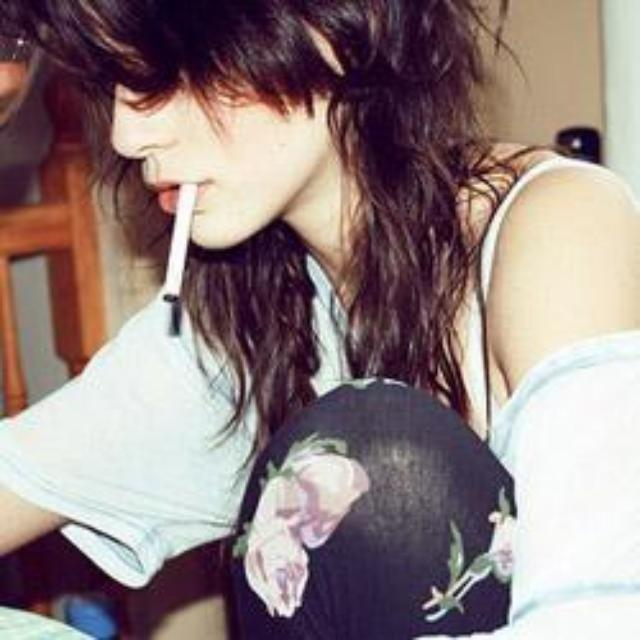Smoking: (160, 188, 198, 304)
